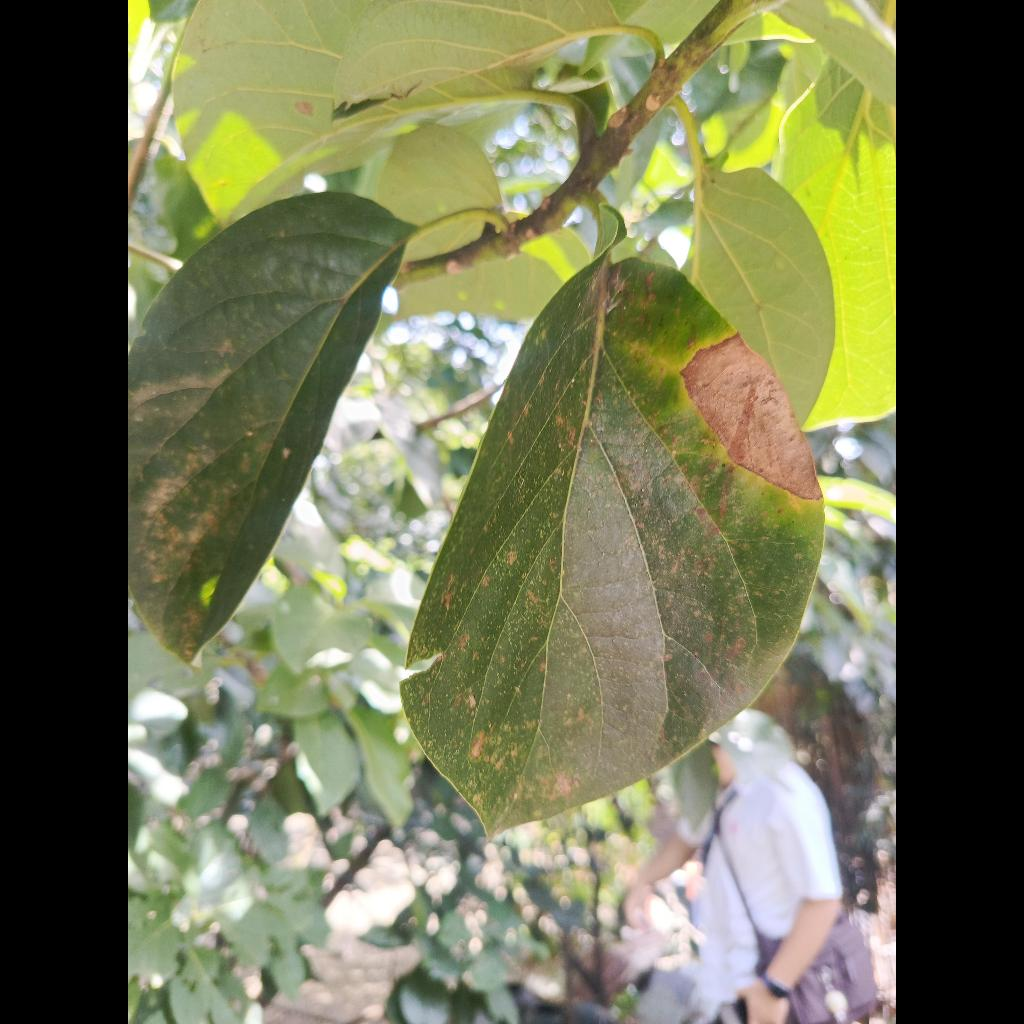antracnosis_hoja: (404, 259, 824, 833)
